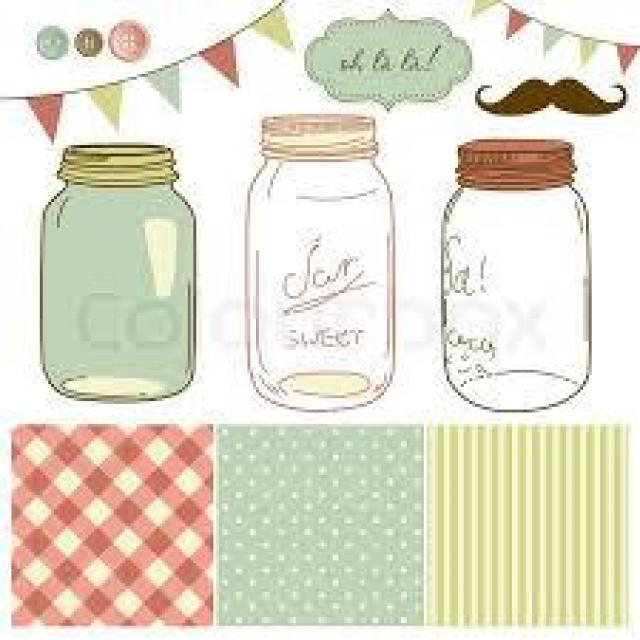non-organic waste: (243, 102, 397, 412), (438, 135, 595, 417), (38, 136, 200, 406)
